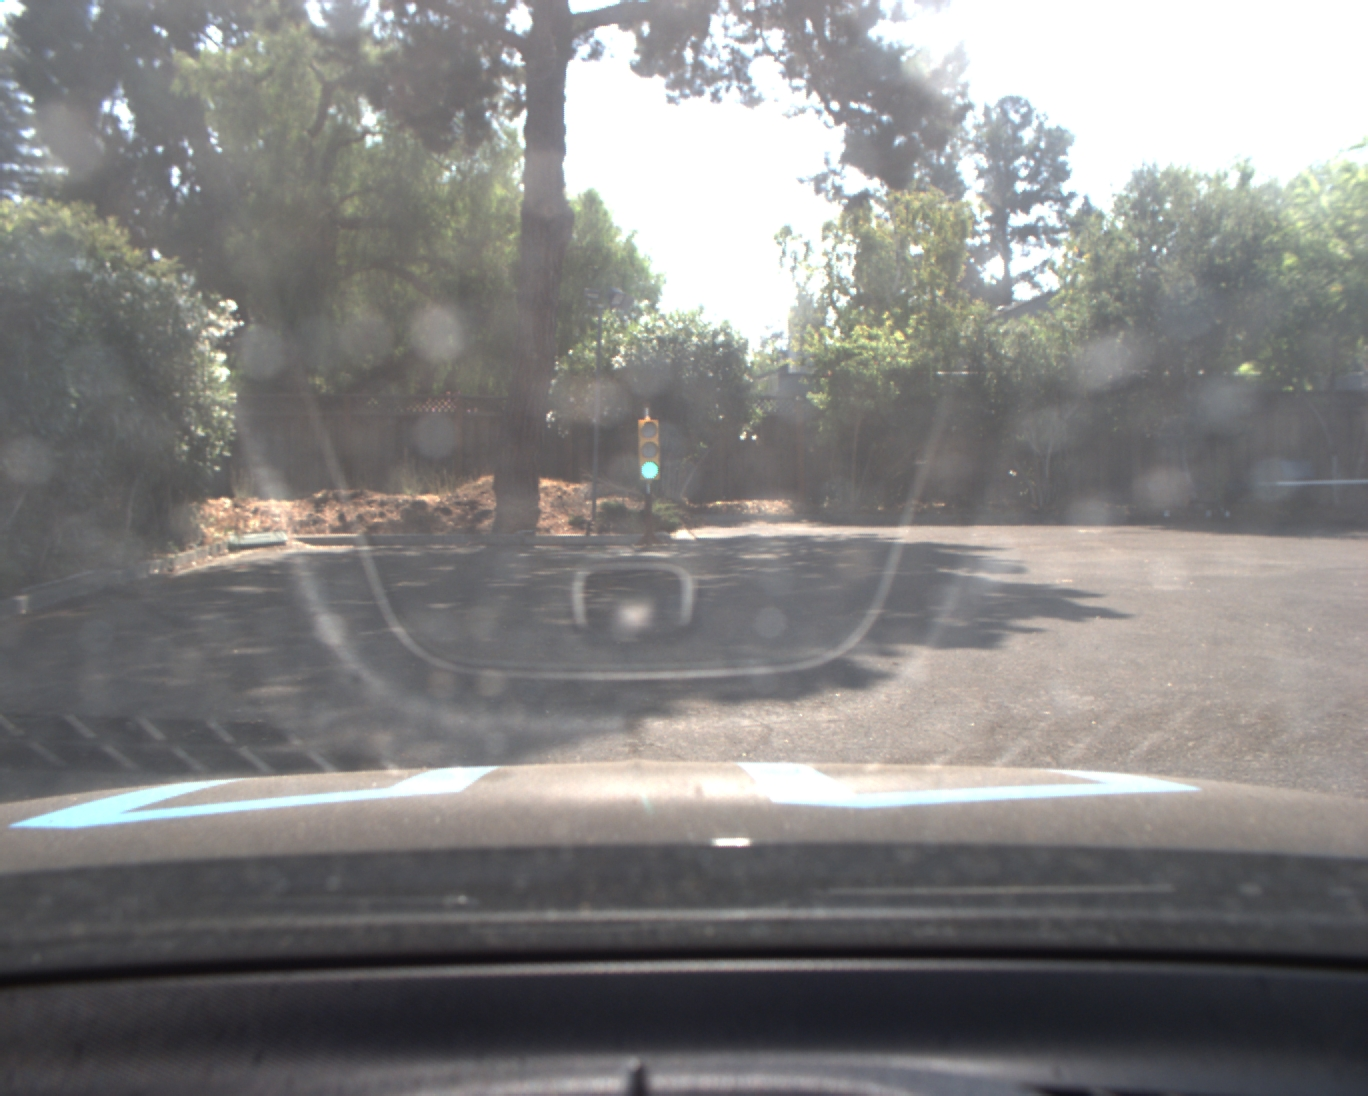green: (637, 421, 663, 486)
